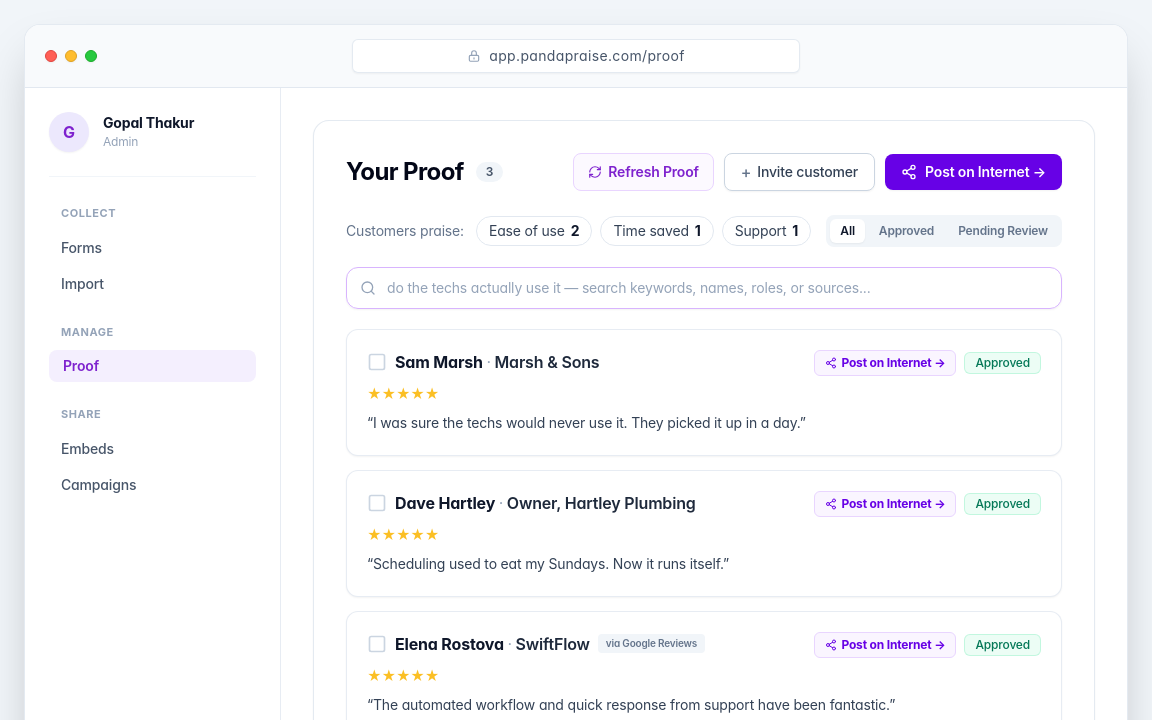
Test: AppLayout Stitch Master Layout Suite › 3. Renders praise attribute chips and filters on click
Click the button "Support 1": (766, 231) [722,216,811,246]
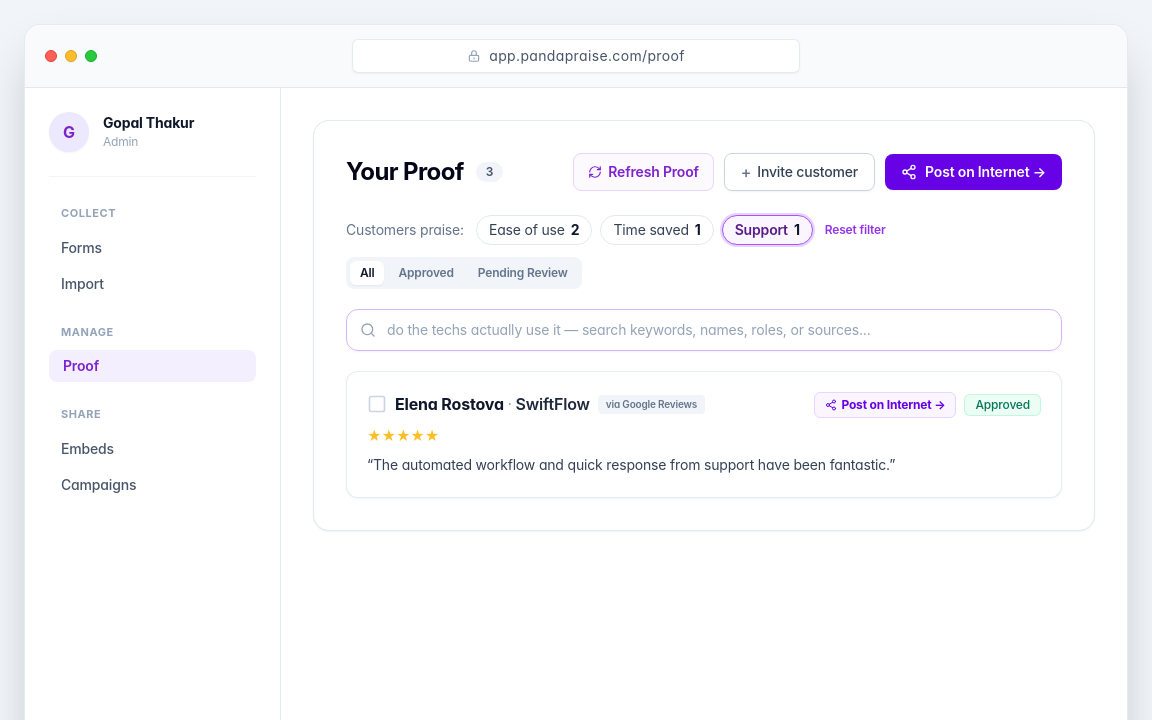
expect the text "Elena Rostova" is shown: met, box [395,394,504,414]
expect the text "Dave Hartley" is gone: met
